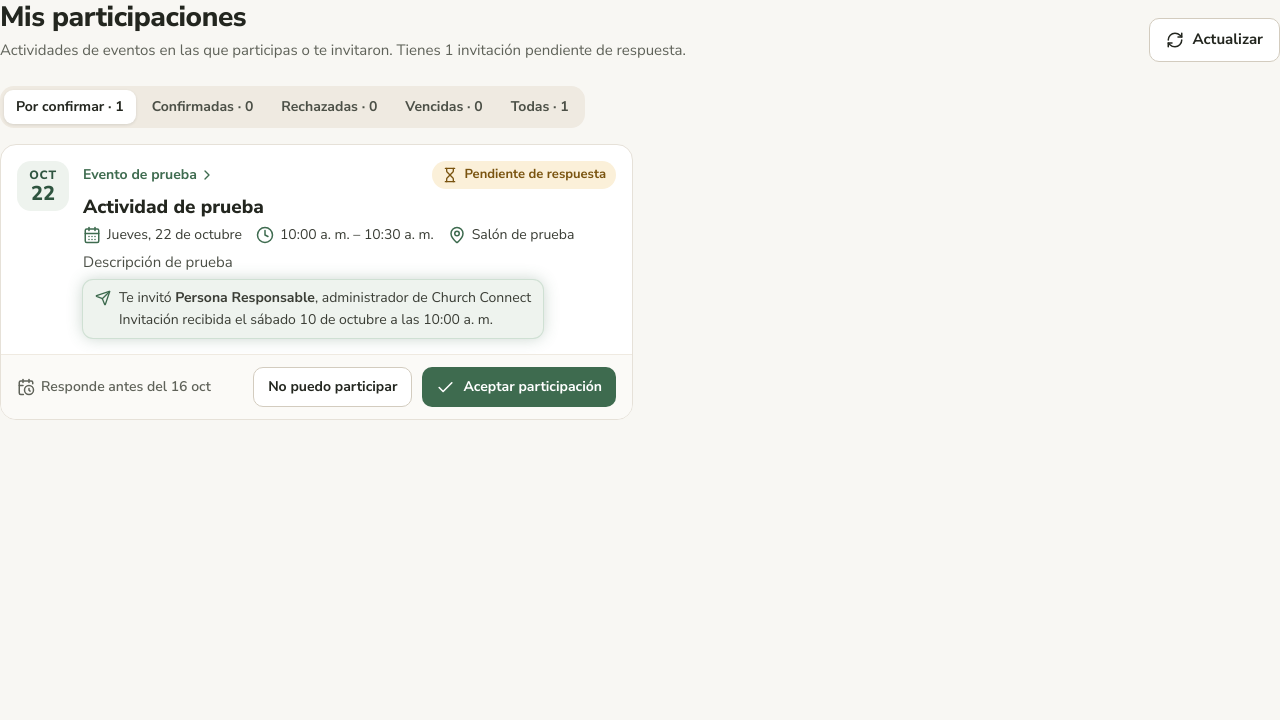
Test: ParticipationsPage › 409: refresca la tarjeta con el estado actual y lo explica
This screenshot has width=1280, height=720.
Click the button with aria-label "Aceptar participación en".
click(519, 387)  # box [422,367,616,407]
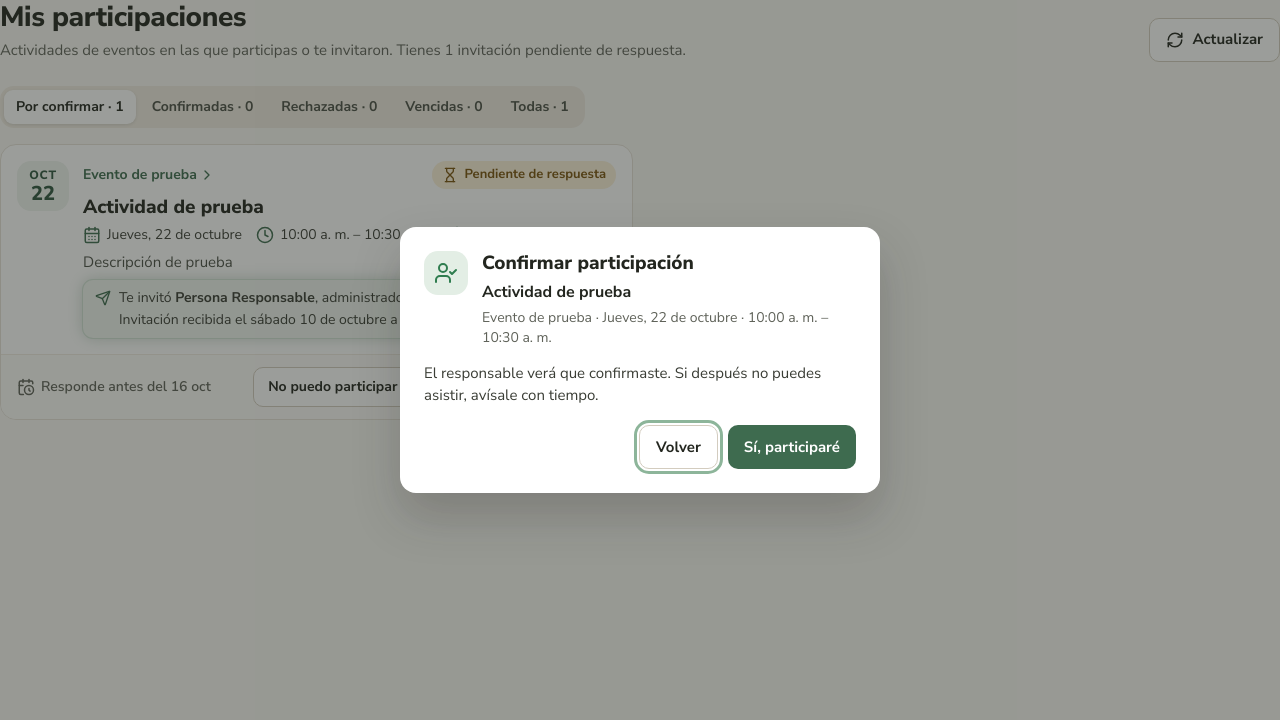
Click the button "Sí, participaré".
click(792, 447)  # box [728,425,856,469]
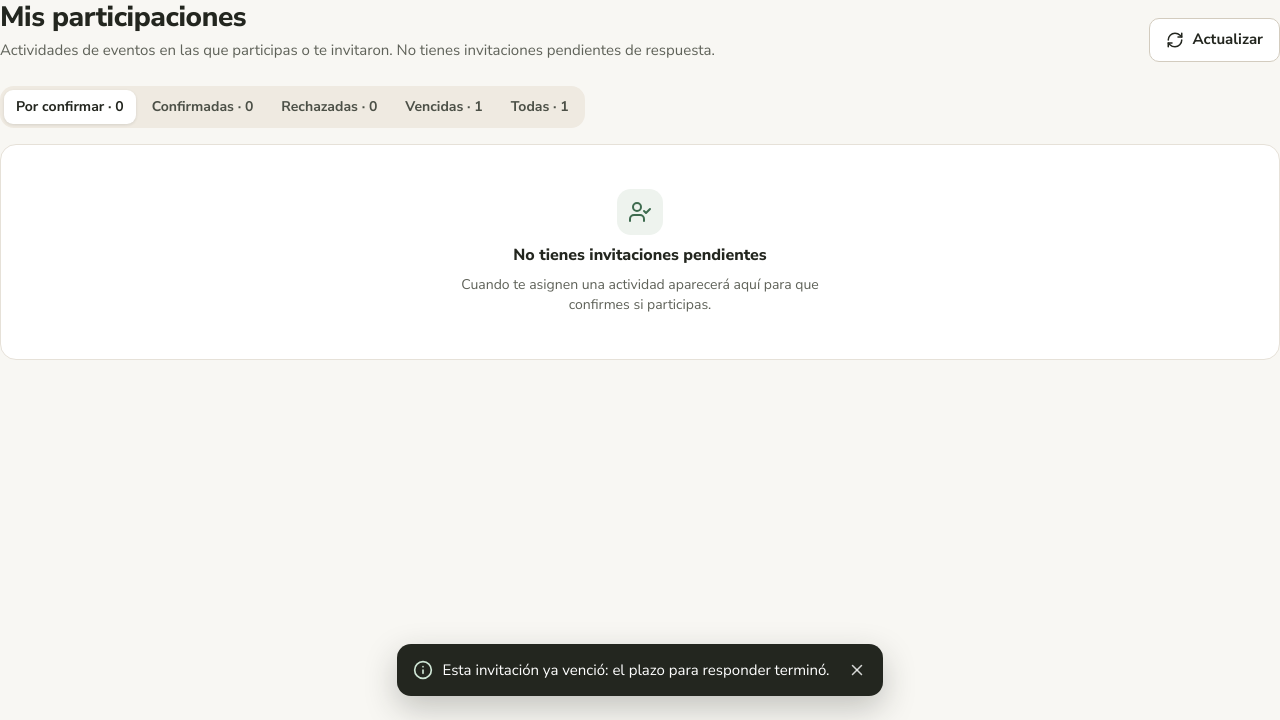
Check: the text "Esta invitación ya venció: el plazo para responder terminó." is shown, box [443,654,829,686]
Check: the dialog is gone
Check: the button "Por confirmar · 0" is shown, box [4,90,136,124]
